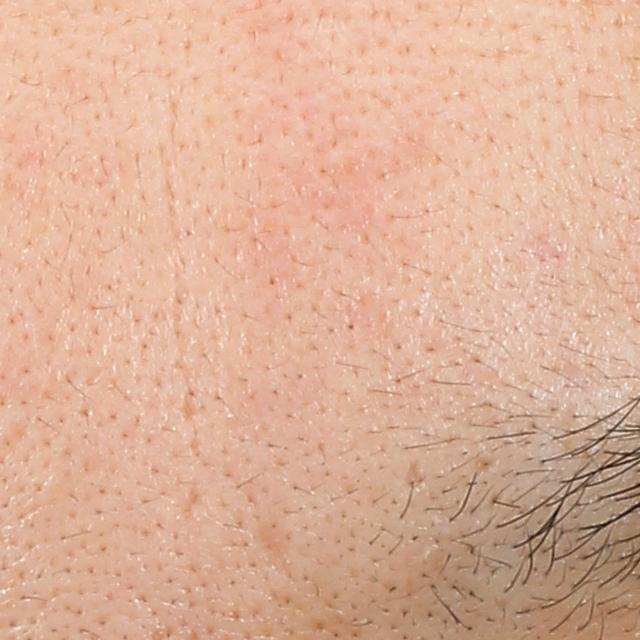atrophic_scar: (249, 507, 301, 584), (180, 486, 208, 522), (403, 459, 425, 492), (179, 389, 195, 423)
